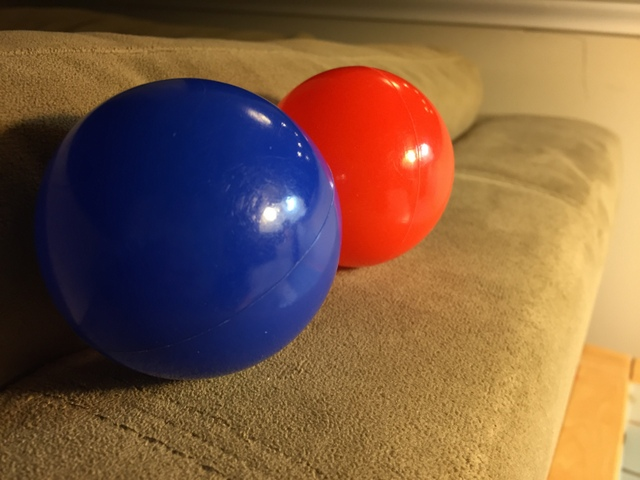Ball: (34, 78, 339, 378)
